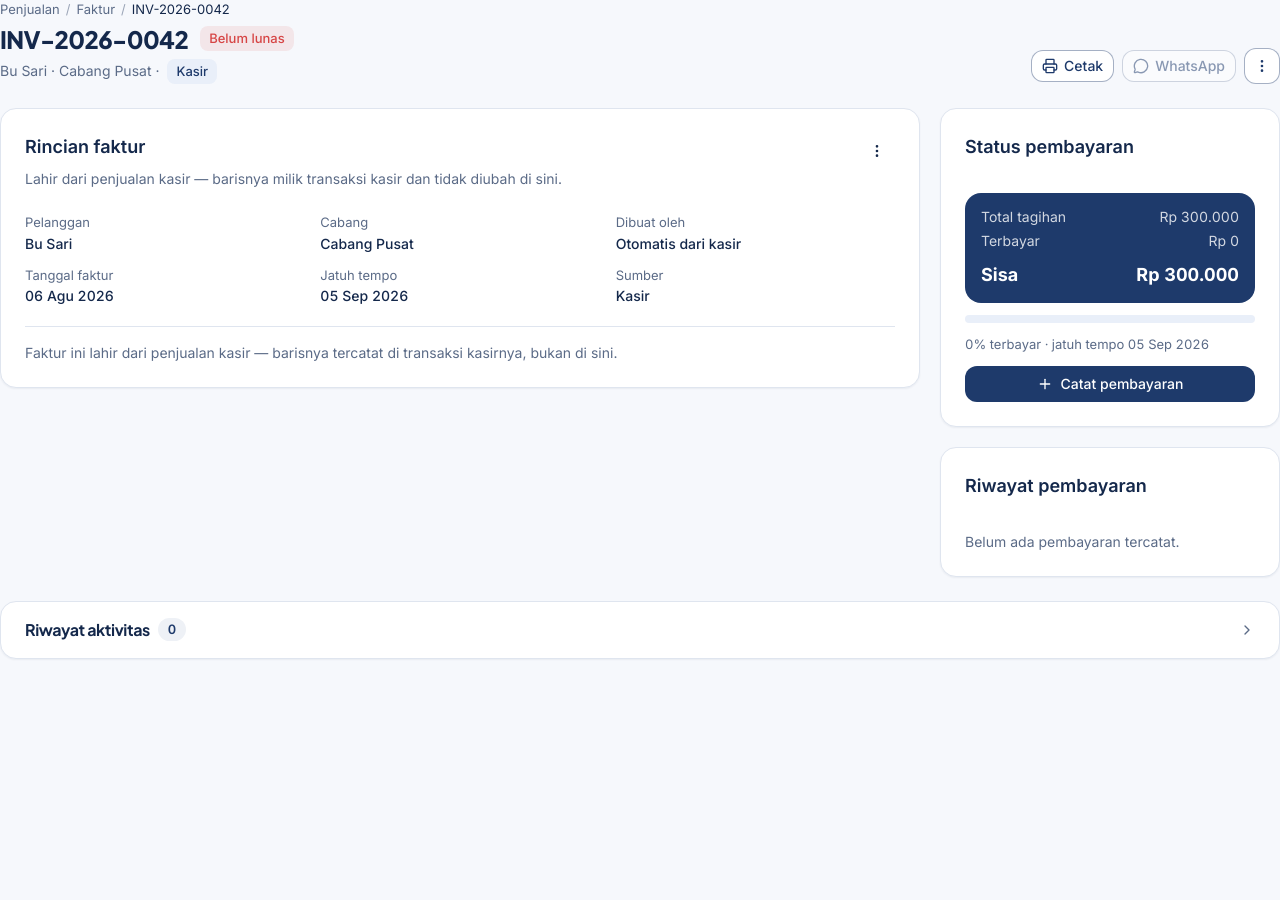
Test: InvoiceDetail › fills the amount with what is outstanding when Lunasi is pressed
The image size is (1280, 900).
Click the button "Catat pembayaran" at (1110, 384), box [965, 366, 1255, 402]
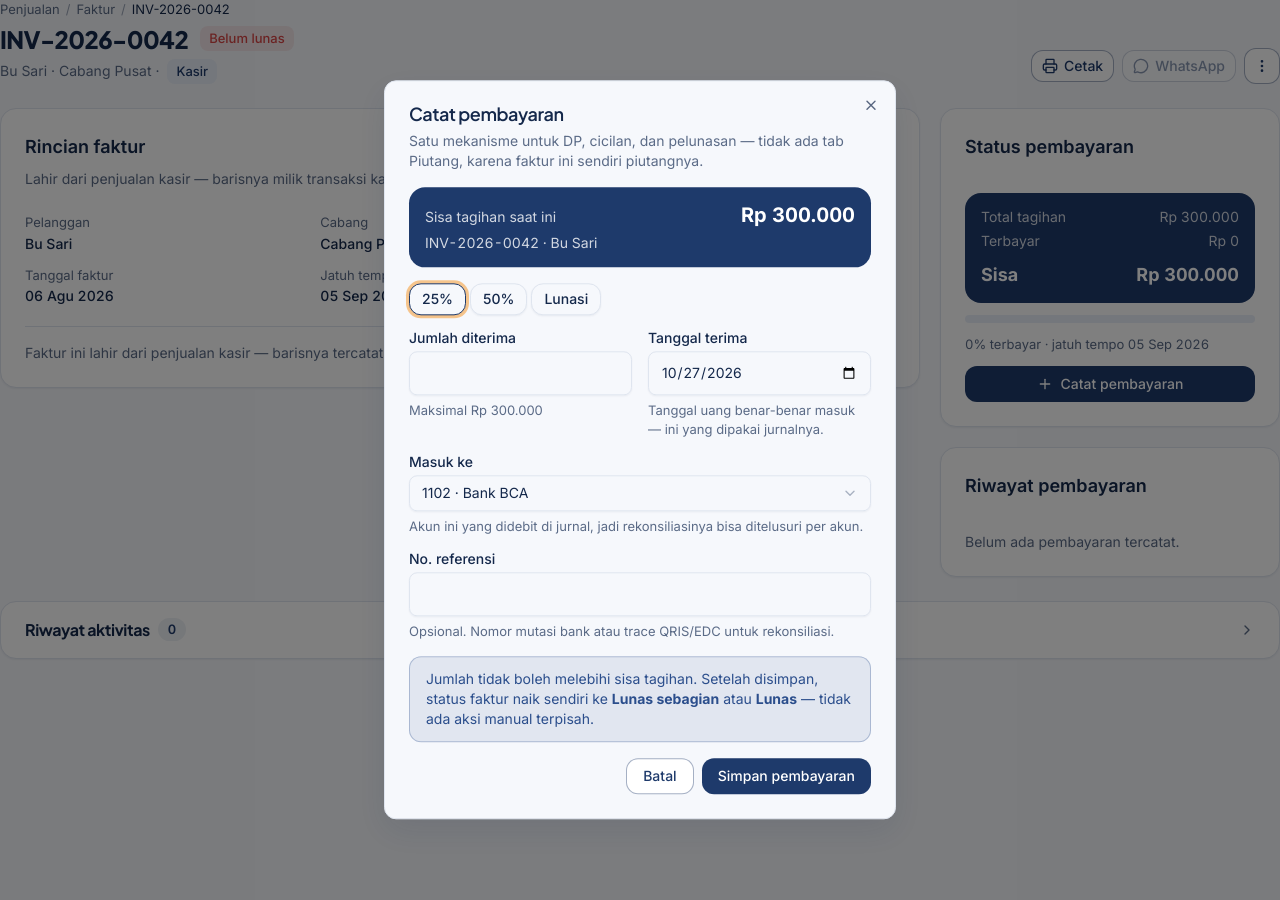
Click the button "Lunasi" at (566, 299), box [531, 283, 601, 315]
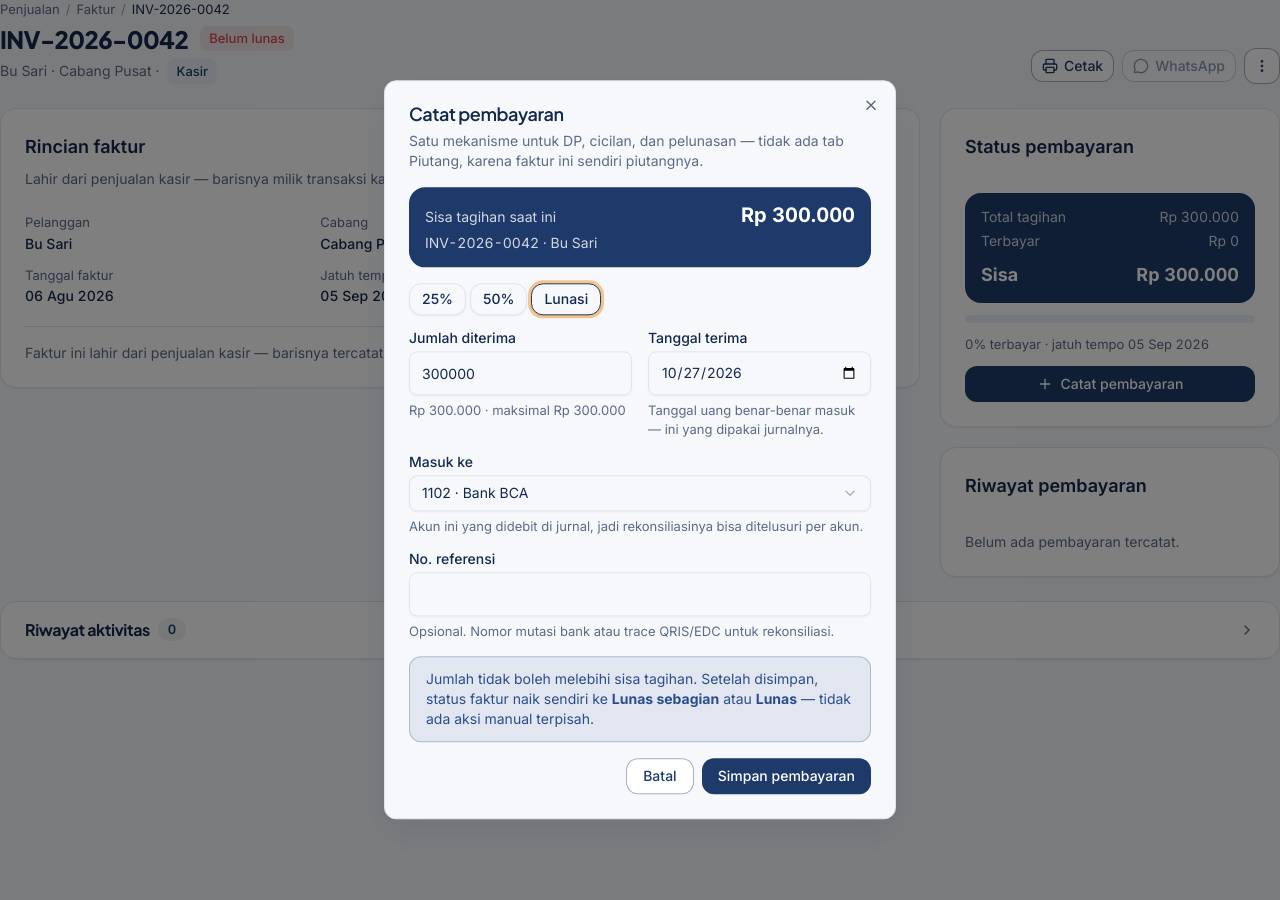
Expected: the field labelled "Jumlah diterima" holds "300000", [409, 351, 632, 395]
